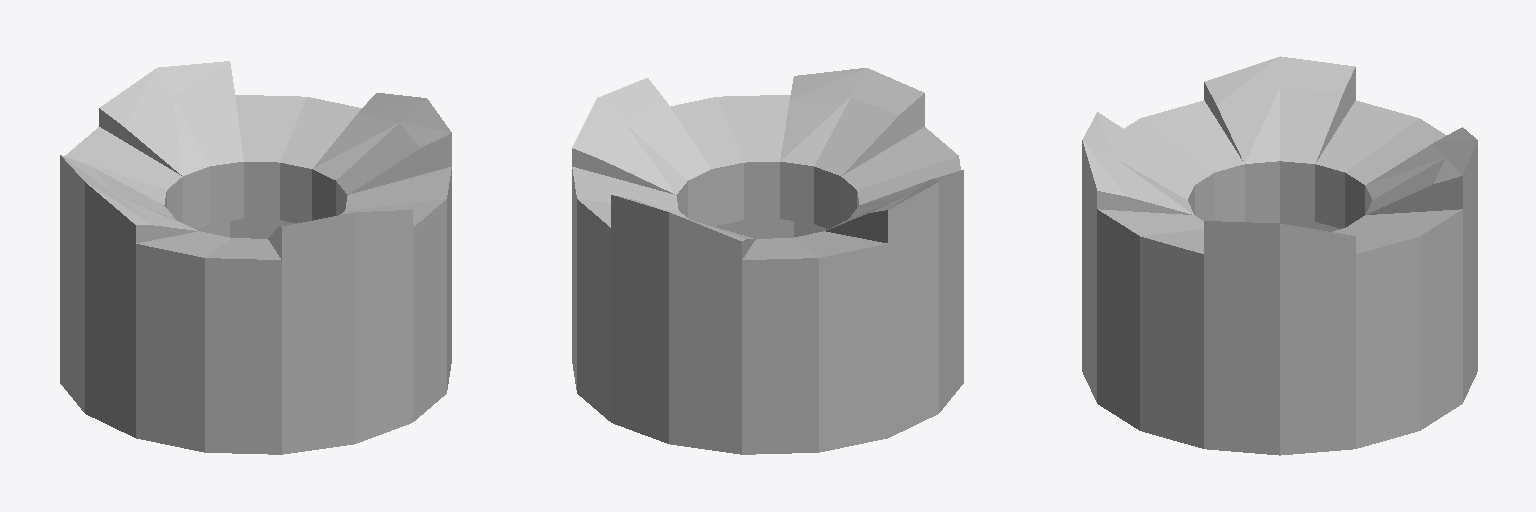
The model's file is drill_blade4.obj.
3 renders of one model, left to right at view 1: azimuth 30°, elevation 25°; view 2: azimuth 150°, elevation 25°; view 3: azimuth 270°, elevation 25°, orthographic.
Parts seen in each view (by area): view 1: Cylinder.011_Cylinder.013; view 2: Cylinder.011_Cylinder.013; view 3: Cylinder.011_Cylinder.013.
Part boxes in pixels (bbox=[...]): Cylinder.011_Cylinder.013: bbox=[60, 61, 451, 454]; Cylinder.011_Cylinder.013: bbox=[572, 68, 963, 454]; Cylinder.011_Cylinder.013: bbox=[1082, 56, 1477, 455].
Bounding box in the file's own units: 1.81 × 1.17 × 1.81.